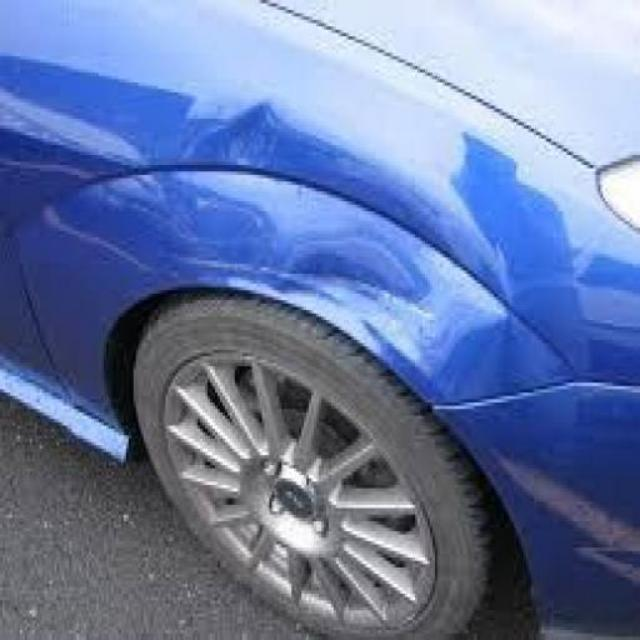dent: (162, 237, 444, 353), (215, 90, 294, 189)
